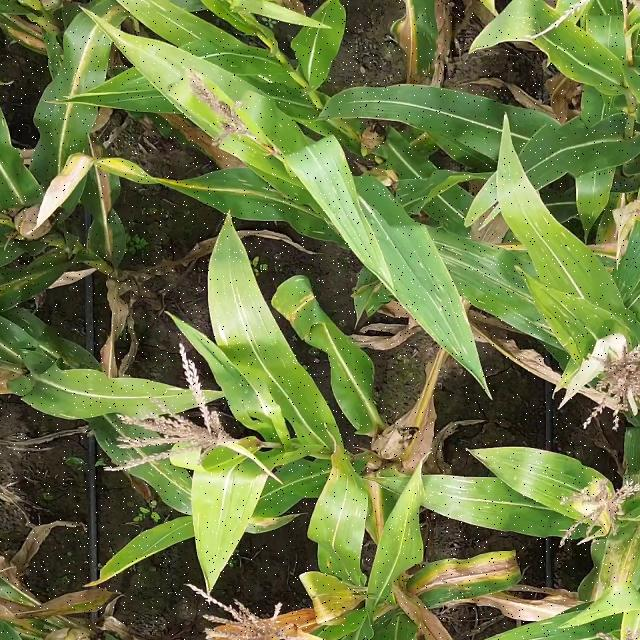gray-leaf-spot: (511, 213, 640, 339), (0, 311, 127, 422), (212, 270, 340, 378), (394, 234, 510, 343), (101, 430, 233, 524), (242, 143, 360, 233), (438, 458, 574, 532)
northern-leaf-blight: (375, 546, 515, 614), (358, 0, 450, 92)
southern-leaf-blight: (0, 236, 77, 332), (32, 101, 104, 190)
